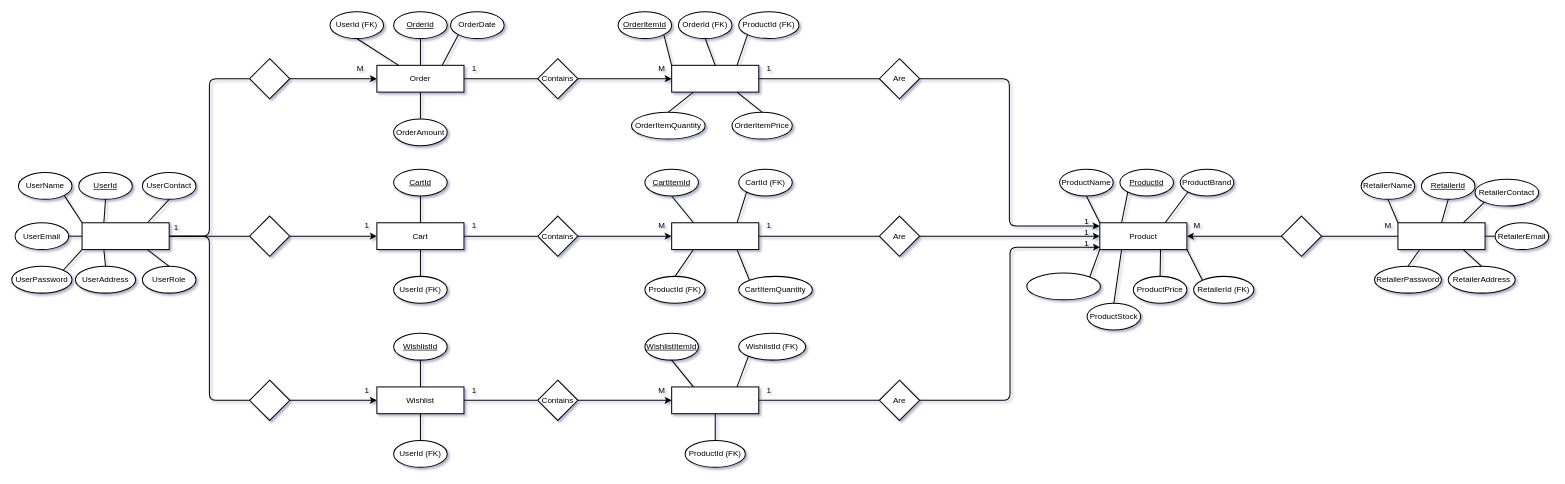
Image size: 1565x484. Some labels were removed from this diagram. Each missing label, with the centre of its shape:
CartItem: the point at 715,236
Has: the point at 269,400
OrderItem: the point at 715,78
Owns: the point at 269,235
Places: the point at 269,78
ProductDescription: the point at 1063,286
Retailer: the point at 1441,236
Sells: the point at 1301,235
User: the point at 125,236
WishlistItem: the point at 715,400
